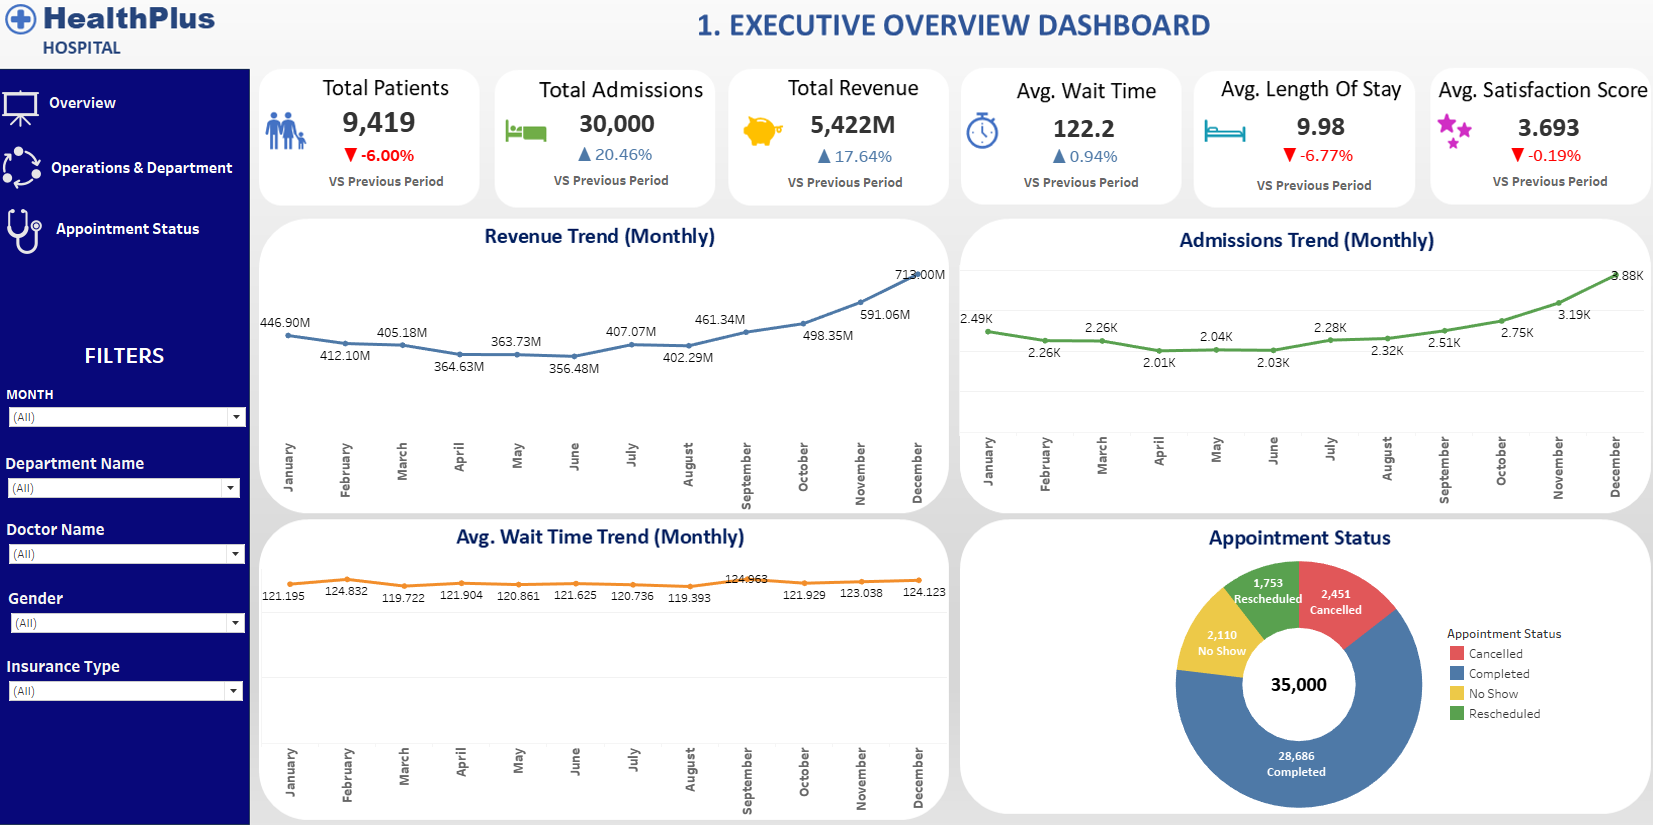

The page's visual inventory and layout, read from the dashboard file:
{"tool":"tableau","page":{"name":"Executive Overview","canvas":[1709,856],"ordinal":0},"visuals":[{"type":"image","param":"Image/Presentation1.png","box":[8,8,1693,840]},{"type":"dashboard-object","box":[11,91,172,54]},{"type":"image","param":"Image/Picture1.svg","box":[6,101,57,47]},{"type":"worksheet","title":"Total Patients","mark":"Automatic","box":[328,110,129,55]},{"type":"worksheet","title":"Total Admissions","mark":"Automatic","box":[555,115,152,47]},{"type":"worksheet","title":"Avg Satisfaction Score","mark":"Automatic","box":[1473,116,180,87]},{"type":"worksheet","title":"Total Revenue","mark":"Automatic","box":[795,117,143,45]},{"type":"worksheet","title":"Avg Of Stay Days","mark":"Automatic","box":[1263,117,144,50]},{"type":"worksheet","title":"Avg Wait Time","mark":"Automatic","box":[1020,120,155,47]},{"type":"worksheet","title":"Patients Growth","mark":"Automatic","box":[337,146,111,50]},{"type":"worksheet","title":"Avg Wait Time Growth","mark":"Automatic","box":[1018,148,161,47]},{"type":"worksheet","title":"Total Admission Growth","mark":"Automatic","box":[579,149,99,42]},{"type":"worksheet","title":"Avg Satisfaction Score Grwot","mark":"Automatic","box":[1505,149,109,43]},{"type":"worksheet","title":"Revenue Growth","mark":"Automatic","box":[815,150,104,43]},{"type":"worksheet","title":"Avg Of Stay Growth","mark":"Automatic","box":[1285,153,93,35]},{"type":"dashboard-object","box":[39,155,234,56]},{"type":"text","box":[565,181,121,30]},{"type":"text","box":[340,182,121,30]},{"type":"text","box":[1504,182,121,30]},{"type":"text","box":[799,183,121,30]},{"type":"text","box":[1035,183,121,30]},{"type":"text","box":[1268,186,121,30]},{"type":"dashboard-object","box":[39,218,206,52]},{"type":"image","param":"Image/Picture3.svg","box":[5,223,67,49]},{"type":"worksheet","title":"Revenue Trend (Monthly)","mark":"Automatic","rows":["Revenue"],"cols":["Admission_Date"],"box":[273,280,687,254]},{"type":"worksheet","title":"Admission Trend (Monthly)","mark":"Automatic","rows":["Admission_ID"],"cols":["Admission_Date"],"box":[973,281,685,247]},{"type":"text","box":[13,356,251,30]},{"type":"filter","title":"Revenue Trend (Monthly)","param":"[federated.0m1gyx91rqx2dw12bt20d0494kdl].[mn:Admission_Date:ok]","box":[20,401,243,63]},{"type":"filter","title":"Total Patients","param":"[federated.0m1gyx91rqx2dw12bt20d0494kdl].[none:Department_Name:nk]","box":[19,468,238,141]},{"type":"filter","title":"Total Patients","param":"[federated.0m1gyx91rqx2dw12bt20d0494kdl].[none:Doctor_Name:nk]","box":[20,534,242,61]},{"type":"worksheet","title":"Appoitment Status Distribution","mark":"Pie","rows":["Calculation_112308524602679297","Calculation_112308524602679297"],"box":[975,572,676,257]},{"type":"worksheet","title":"Avg. Wait Time Trend","mark":"Automatic","rows":["Wait_Time_Minutes"],"cols":["Admission_Date"],"box":[275,585,686,254]},{"type":"filter","title":"Total Patients","param":"[federated.0m1gyx91rqx2dw12bt20d0494kdl].[none:Gender:nk]","box":[22,603,240,53]},{"type":"legend","title":"Appoitment Status Distribution","param":"[federated.0m1gyx91rqx2dw12bt20d0494kdl].[none:Appointment_Status:nk]","box":[1461,641,155,118]},{"type":"filter","title":"Total Patients","param":"[federated.0m1gyx91rqx2dw12bt20d0494kdl].[none:Insurance_Type:nk]","box":[20,671,240,64]}]}

Visuals, with their boxes in screenshot pixels (x1, y1, x2, y2), scaled from the page's 1709x856 canvas onto the 1653x825 screenshot:
image: BBox(8, 8, 1645, 817)
dashboard-object: BBox(11, 88, 177, 140)
image: BBox(6, 97, 61, 143)
"Total Patients" worksheet: BBox(317, 106, 442, 159)
"Total Admissions" worksheet: BBox(537, 111, 684, 156)
"Avg Satisfaction Score" worksheet: BBox(1425, 112, 1599, 196)
"Total Revenue" worksheet: BBox(769, 113, 907, 156)
"Avg Of Stay Days" worksheet: BBox(1222, 113, 1361, 161)
"Avg Wait Time" worksheet: BBox(987, 116, 1136, 161)
"Patients Growth" worksheet: BBox(326, 141, 433, 189)
"Avg Wait Time Growth" worksheet: BBox(985, 143, 1140, 188)
"Total Admission Growth" worksheet: BBox(560, 144, 656, 184)
"Avg Satisfaction Score Grwot" worksheet: BBox(1456, 144, 1561, 185)
"Revenue Growth" worksheet: BBox(788, 145, 889, 186)
"Avg Of Stay Growth" worksheet: BBox(1243, 147, 1333, 181)
dashboard-object: BBox(38, 149, 264, 203)
text: BBox(546, 174, 664, 203)
text: BBox(329, 175, 446, 204)
text: BBox(1455, 175, 1572, 204)
text: BBox(773, 176, 890, 205)
text: BBox(1001, 176, 1118, 205)
text: BBox(1226, 179, 1343, 208)
dashboard-object: BBox(38, 210, 237, 260)
image: BBox(5, 215, 70, 262)
"Revenue Trend (Monthly)" worksheet: BBox(264, 270, 929, 515)
"Admission Trend (Monthly)" worksheet: BBox(941, 271, 1604, 509)
text: BBox(13, 343, 255, 372)
"Revenue Trend (Monthly)" filter: BBox(19, 386, 254, 447)
"Total Patients" filter: BBox(18, 451, 249, 587)
"Total Patients" filter: BBox(19, 515, 253, 573)
"Appoitment Status Distribution" worksheet (Pie marks): BBox(943, 551, 1597, 799)
"Avg. Wait Time Trend" worksheet: BBox(266, 564, 930, 809)
"Total Patients" filter: BBox(21, 581, 253, 632)
"Appoitment Status Distribution" legend: BBox(1413, 618, 1563, 732)
"Total Patients" filter: BBox(19, 647, 251, 708)
